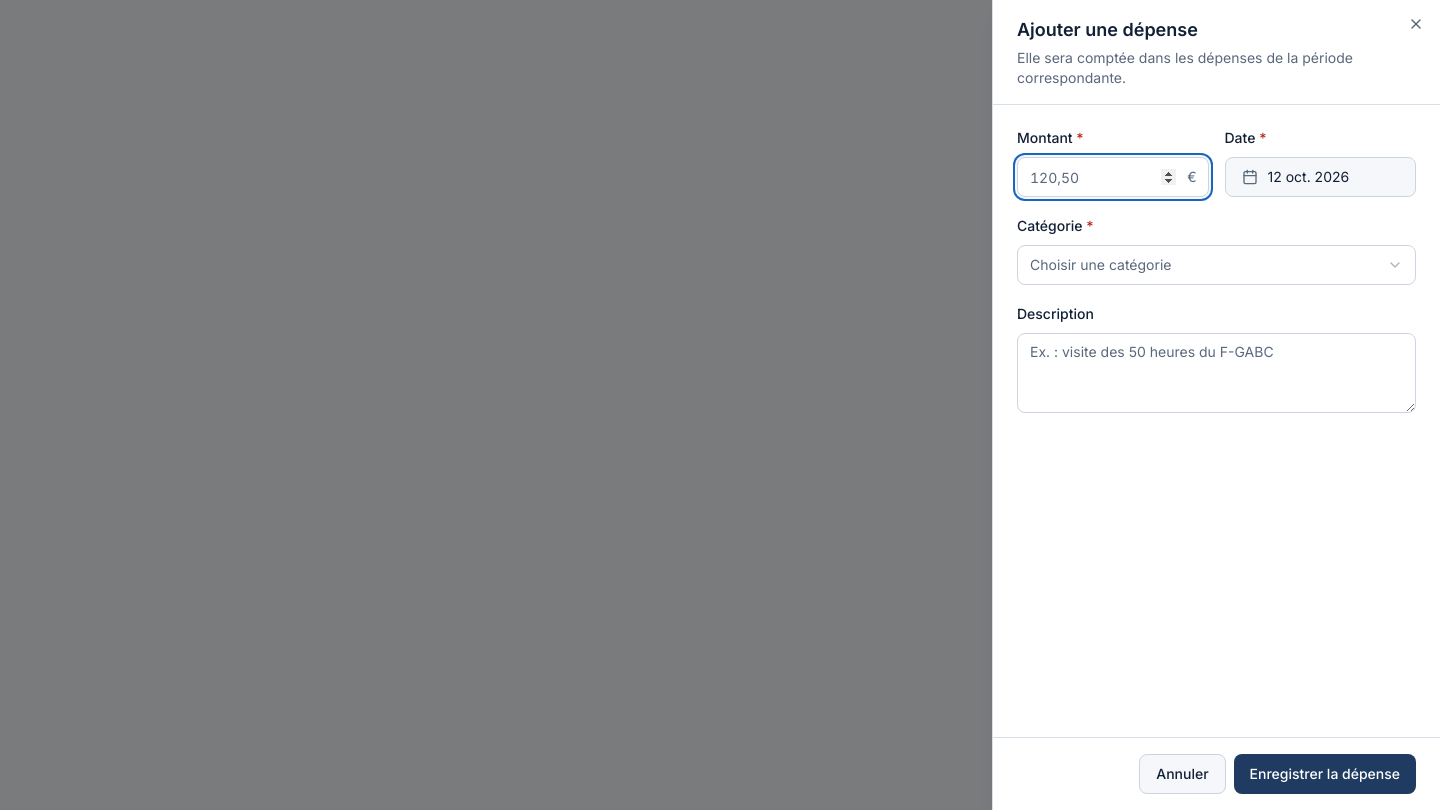
Scenario: ExpenseForm › doit signaler le montant et la catégorie manquants sans rien envoyer
The image size is (1440, 810).
Click the button "Enregistrer la dépense" at (1325, 774), box [1234,754,1416,794]
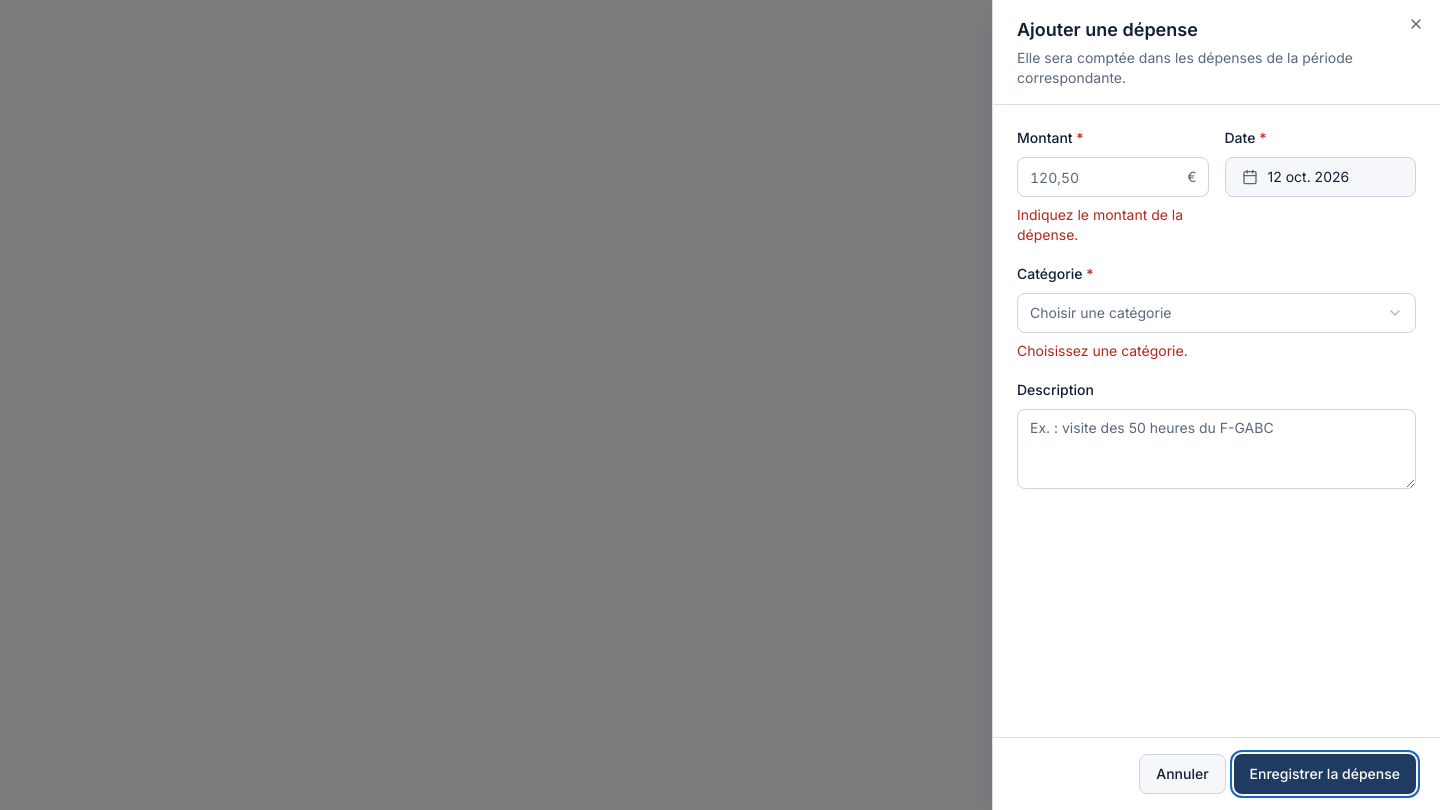
Expected: the text "Indiquez le montant de la dépense." is shown, [1017,205,1208,245]
Expected: the text "Choisissez une catégorie." is shown, [1017,342,1188,359]
